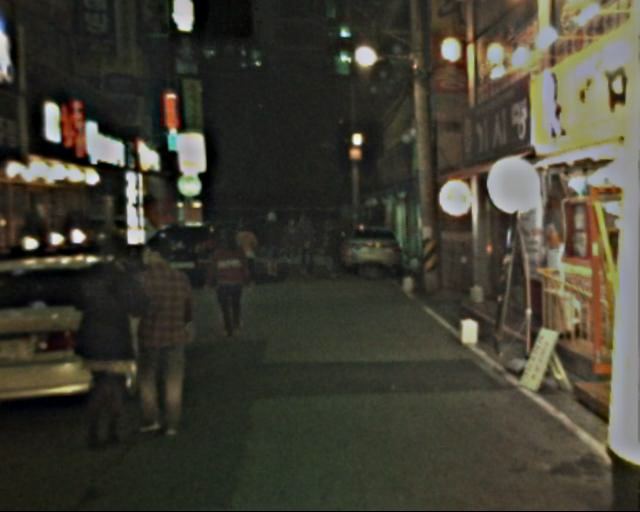person: (128, 230, 204, 447), (67, 230, 135, 453), (209, 222, 256, 345), (230, 216, 263, 291), (256, 205, 287, 284), (293, 211, 317, 282), (318, 218, 342, 283)
